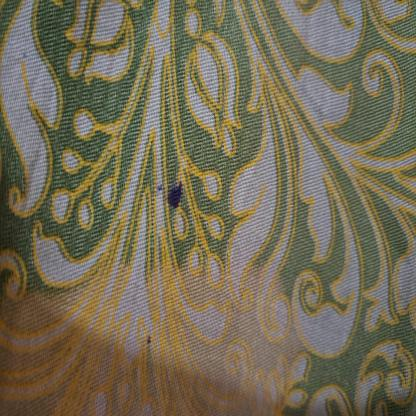spot: (152, 174, 192, 222), (144, 329, 159, 351)
